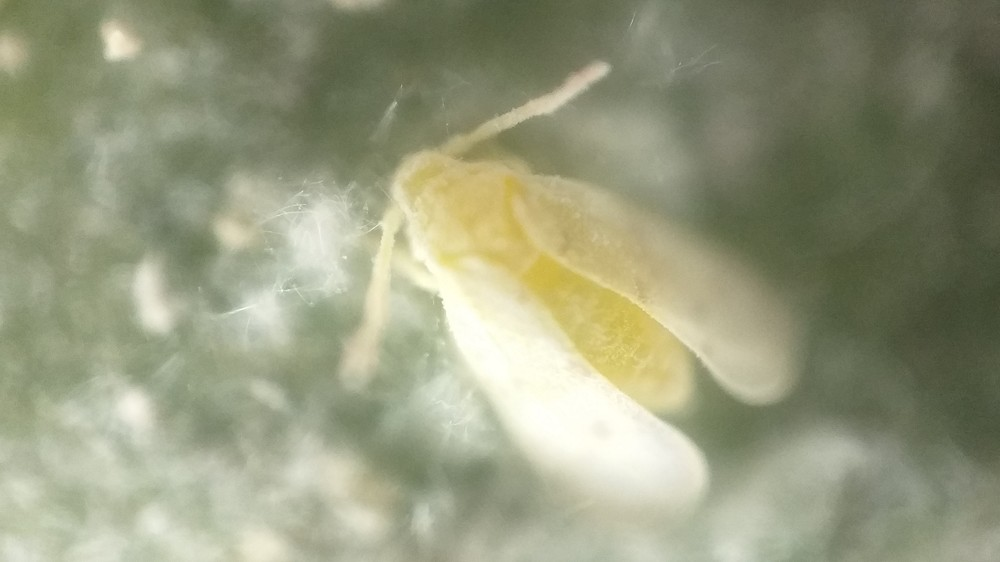Mosca Blanca: (313, 54, 824, 552)
